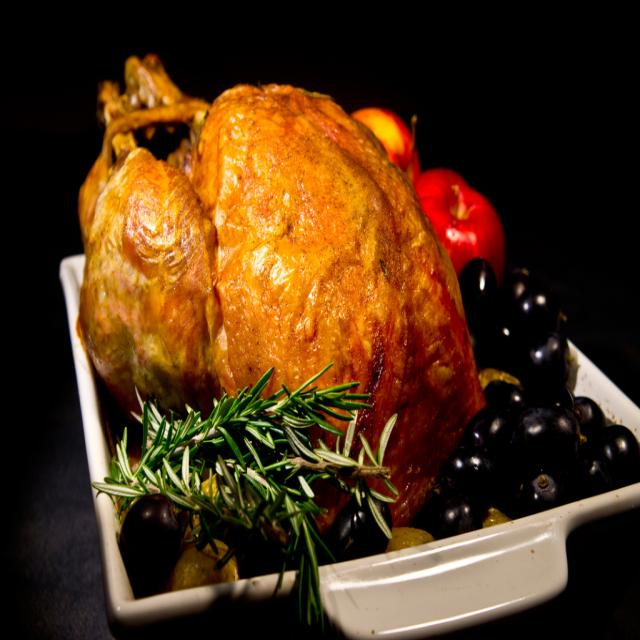Healty Apple: (411, 167, 505, 277), (349, 107, 417, 188)
